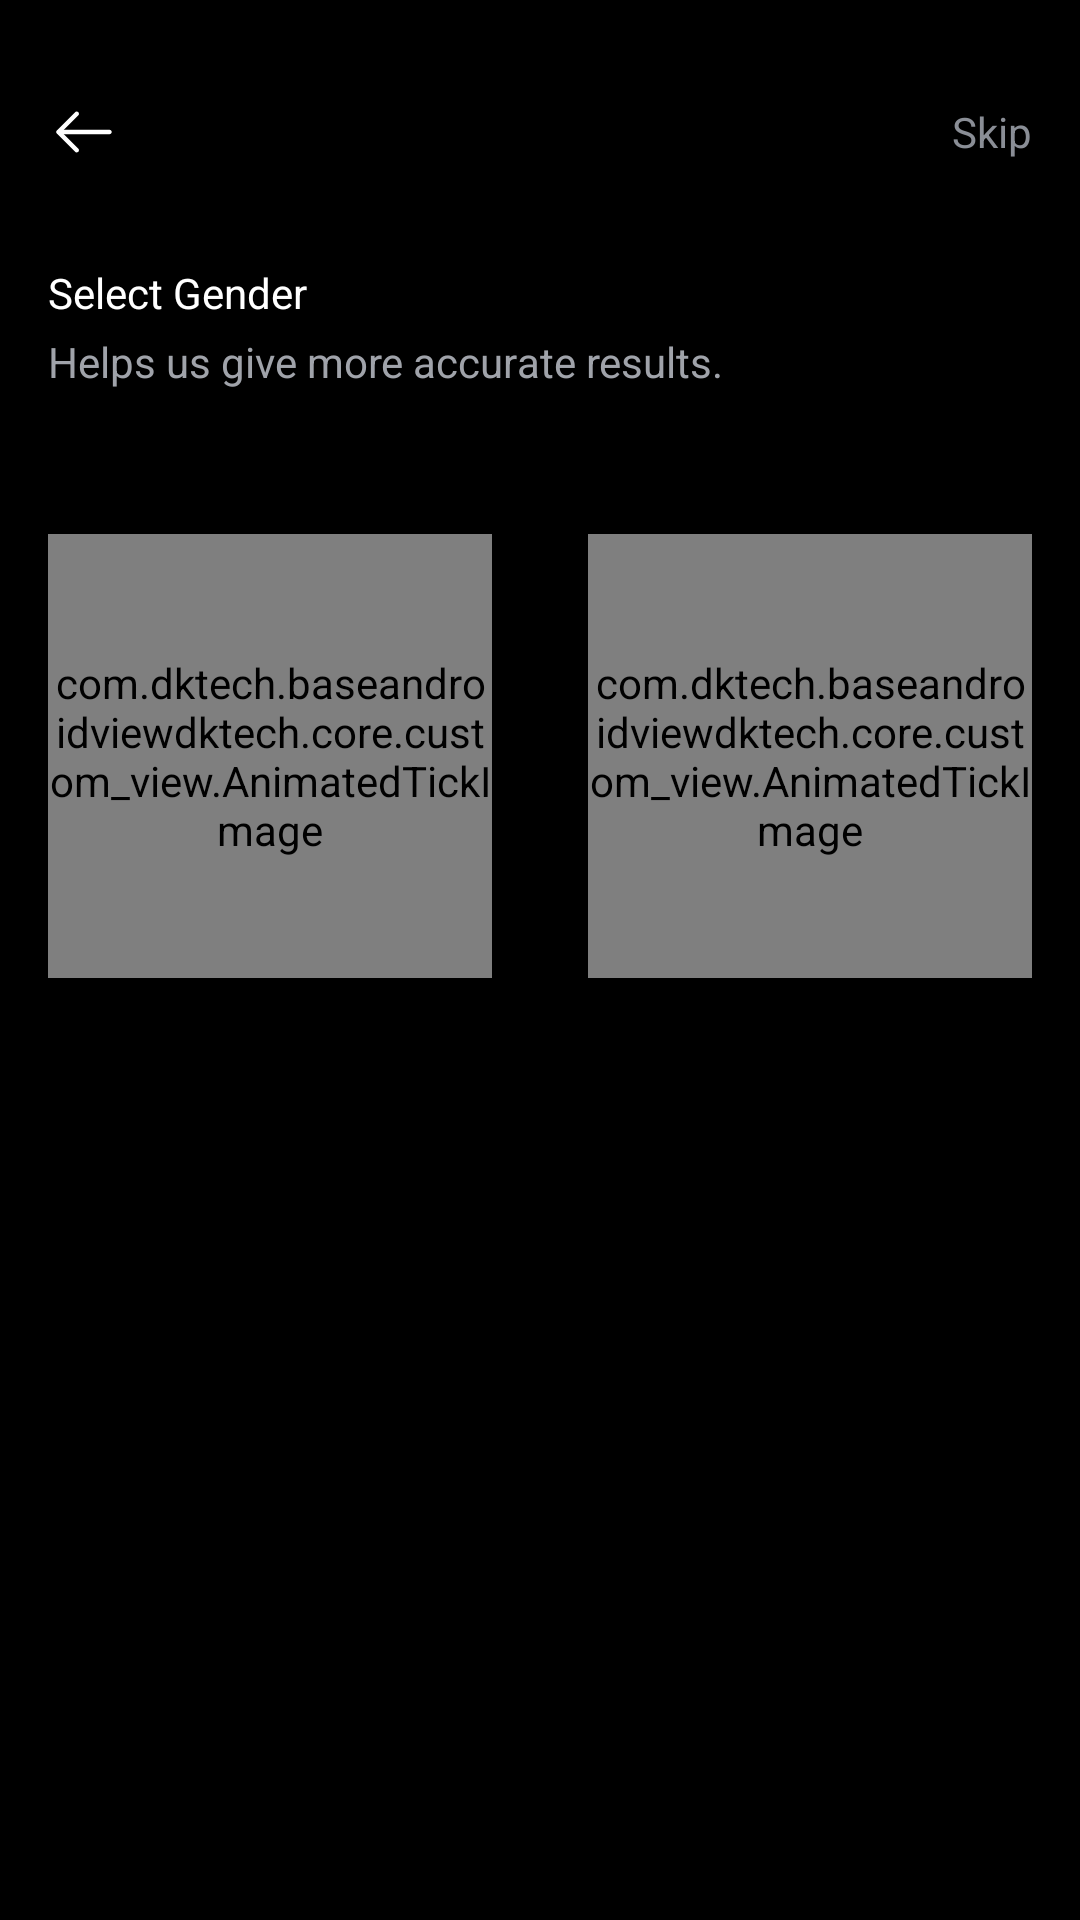

Locate icon controls on the screen. Image size 1080px x 1920px, boxes as Rect(x1, y1, x2, y2).
arrow left: Rect(56, 111, 112, 153)
